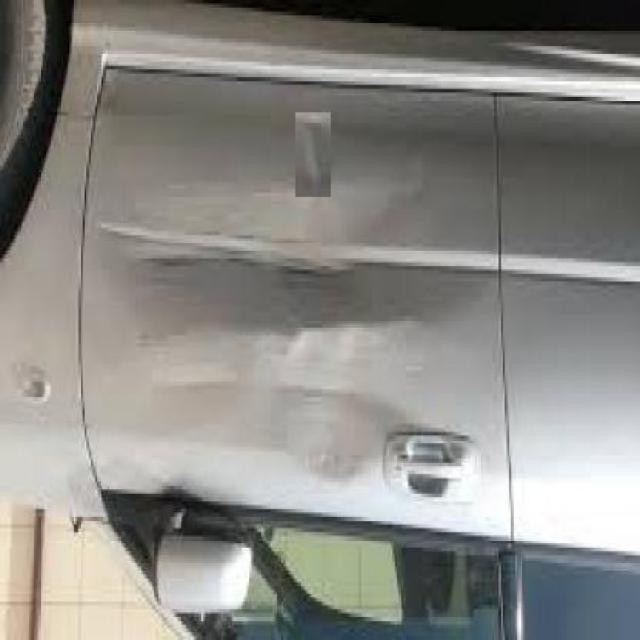dent: (103, 226, 462, 343)
